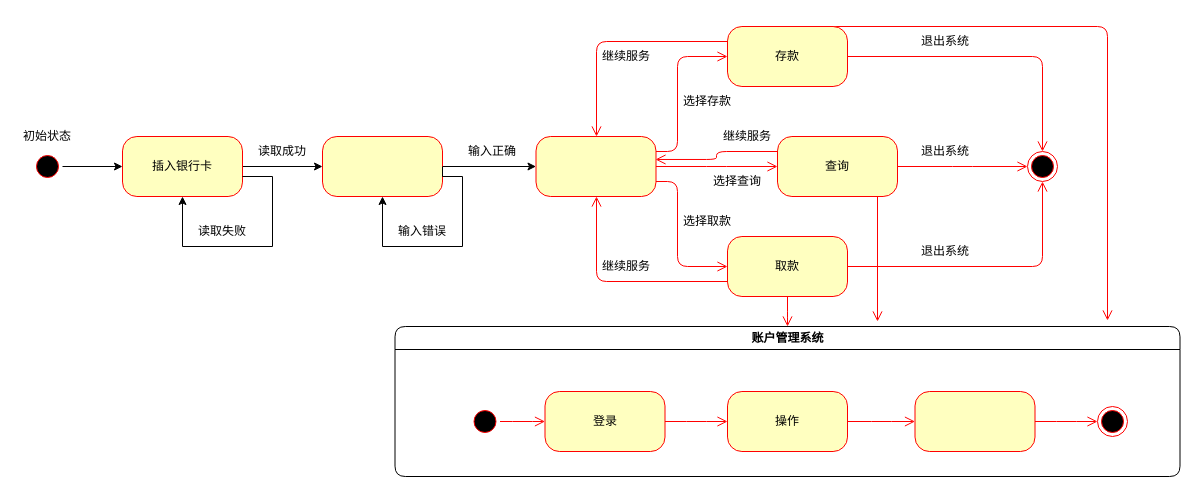
Image size: 1197x494. Some labels were removed from this diagram. The box of each missing label's shape, as (x1, y1, x2, y2) in pixels:
登出: (914, 390, 1035, 452)
输入密码: (322, 136, 442, 196)
选择服务: (535, 136, 656, 196)
